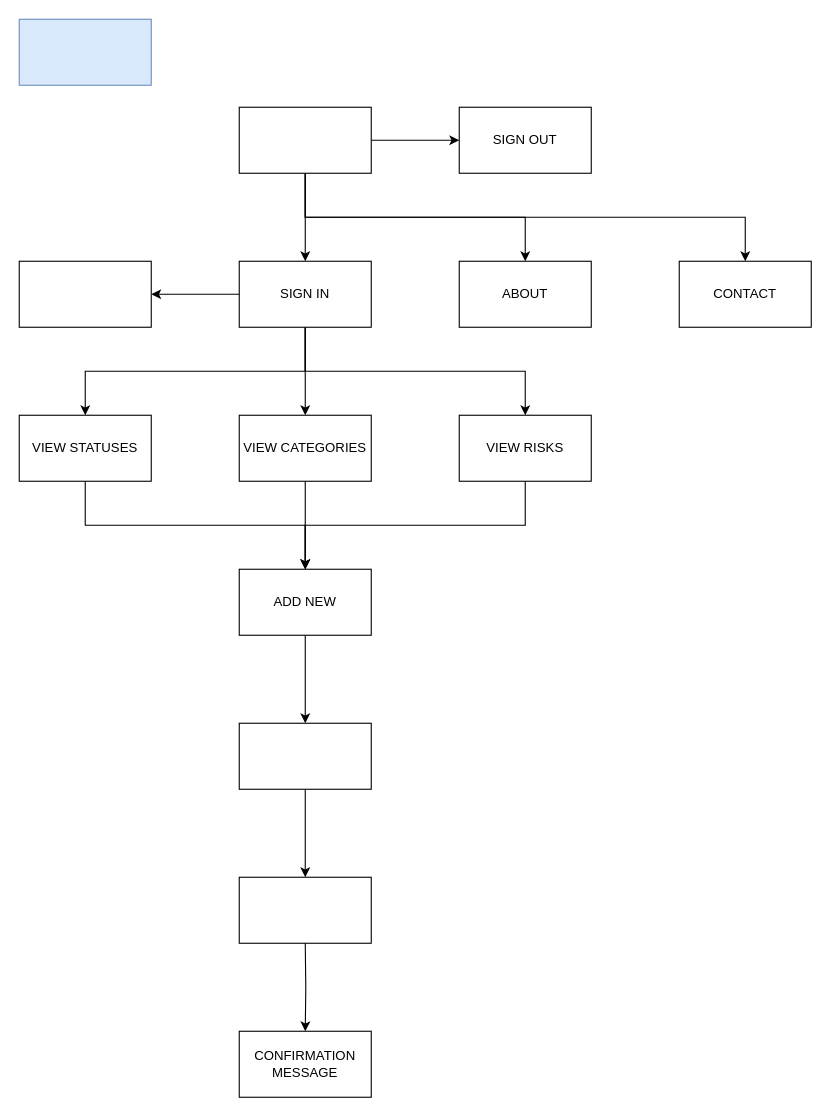
This 831x1117 diagram has some shape labels left out. The centre of each missing label's shape, as x and y in pixels:
"ADMINISTRATOR" belongs at point (84, 51).
"DELETE" belongs at point (304, 909).
"HOME PAGE" belongs at point (304, 139).
"UPDATE" belongs at point (304, 755).
"VIEW PROFILE" belongs at point (84, 293).
